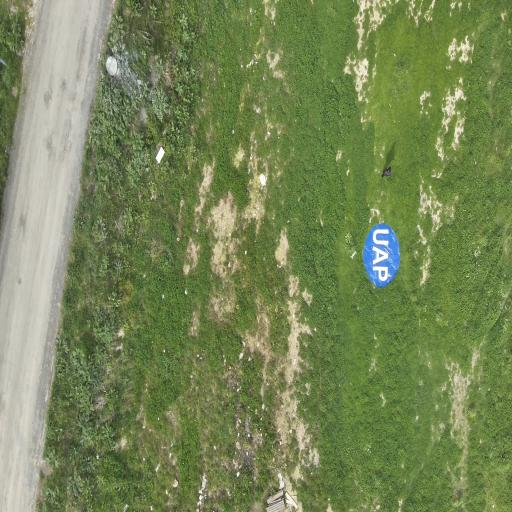UAP: (364, 224, 399, 287)
person: (382, 167, 391, 177)
